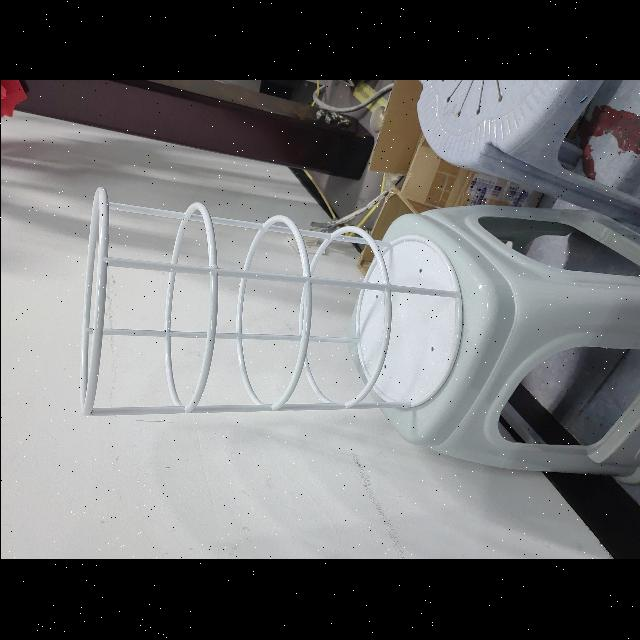S: (76, 182, 464, 424)
